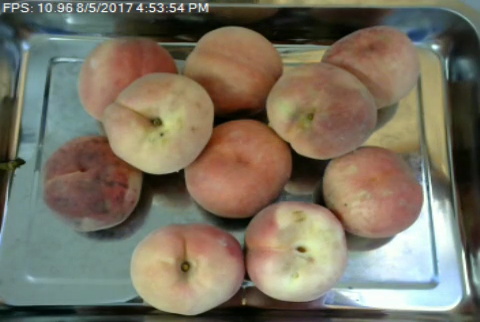Peach: (97, 72, 217, 171), (264, 63, 381, 161), (183, 118, 292, 218), (128, 224, 245, 315), (242, 200, 346, 301), (319, 26, 432, 113), (40, 133, 141, 229), (320, 146, 425, 238), (181, 26, 285, 112), (80, 35, 177, 121)
